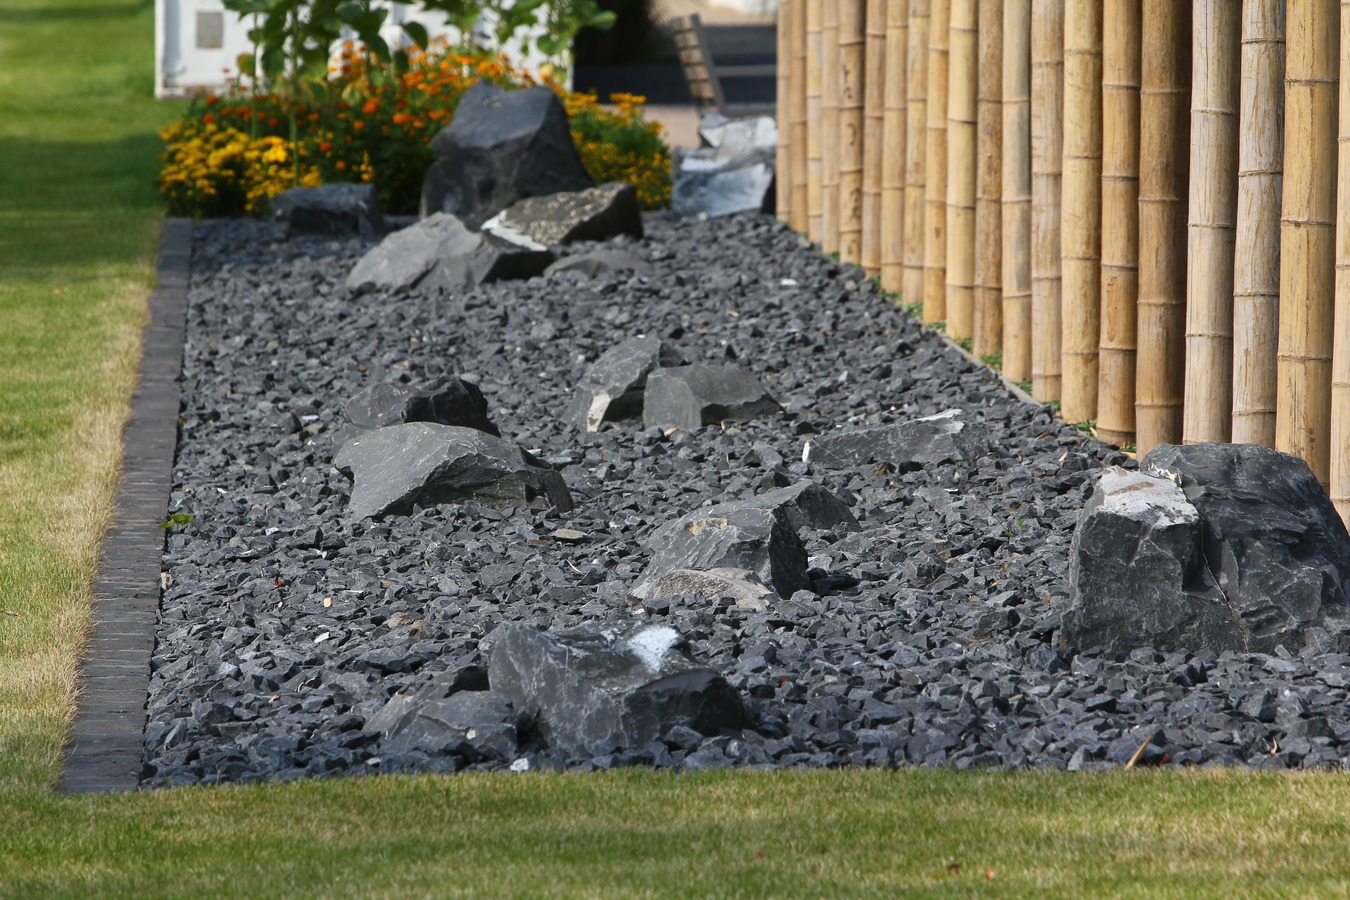grass: (4, 788, 1342, 892), (6, 18, 141, 770)
rock: (158, 80, 1342, 759)
